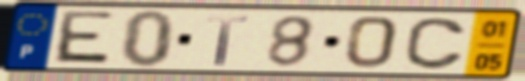0: (115, 8, 178, 70), (342, 14, 402, 71)
8: (263, 13, 318, 69)
C: (402, 15, 469, 72)
E: (49, 9, 118, 68)
T: (205, 14, 252, 67)
